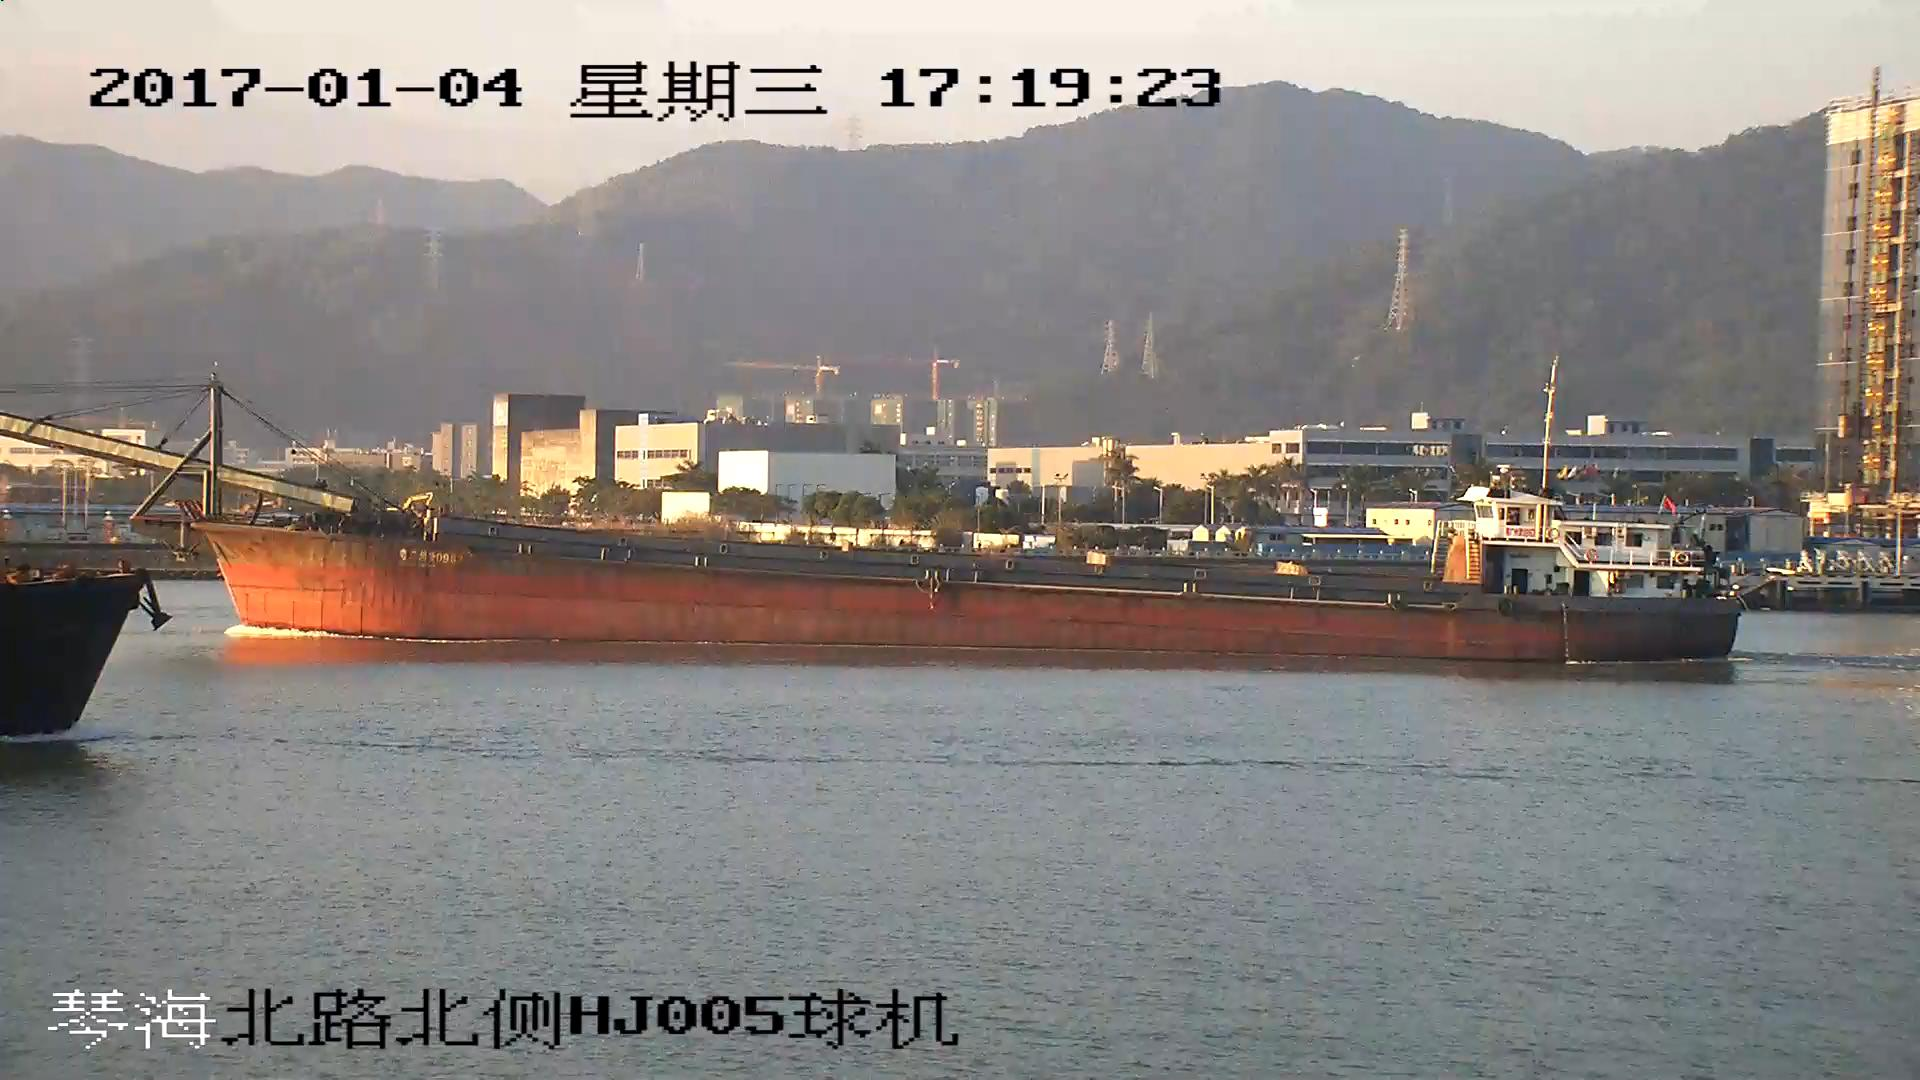bulk cargo carrier: (1, 385, 1742, 662)
